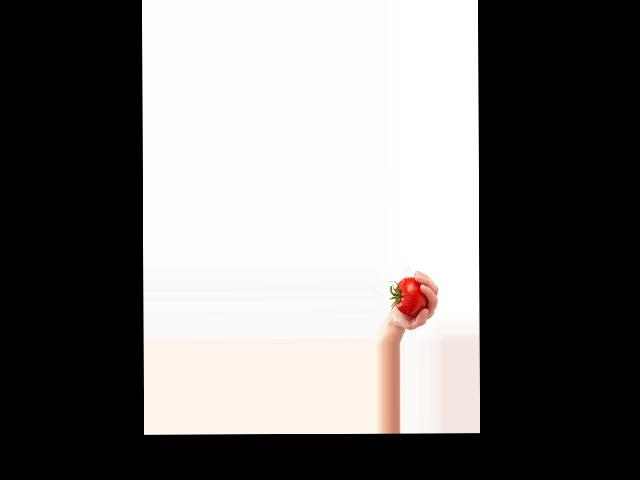tomato: (394, 277, 428, 315)
